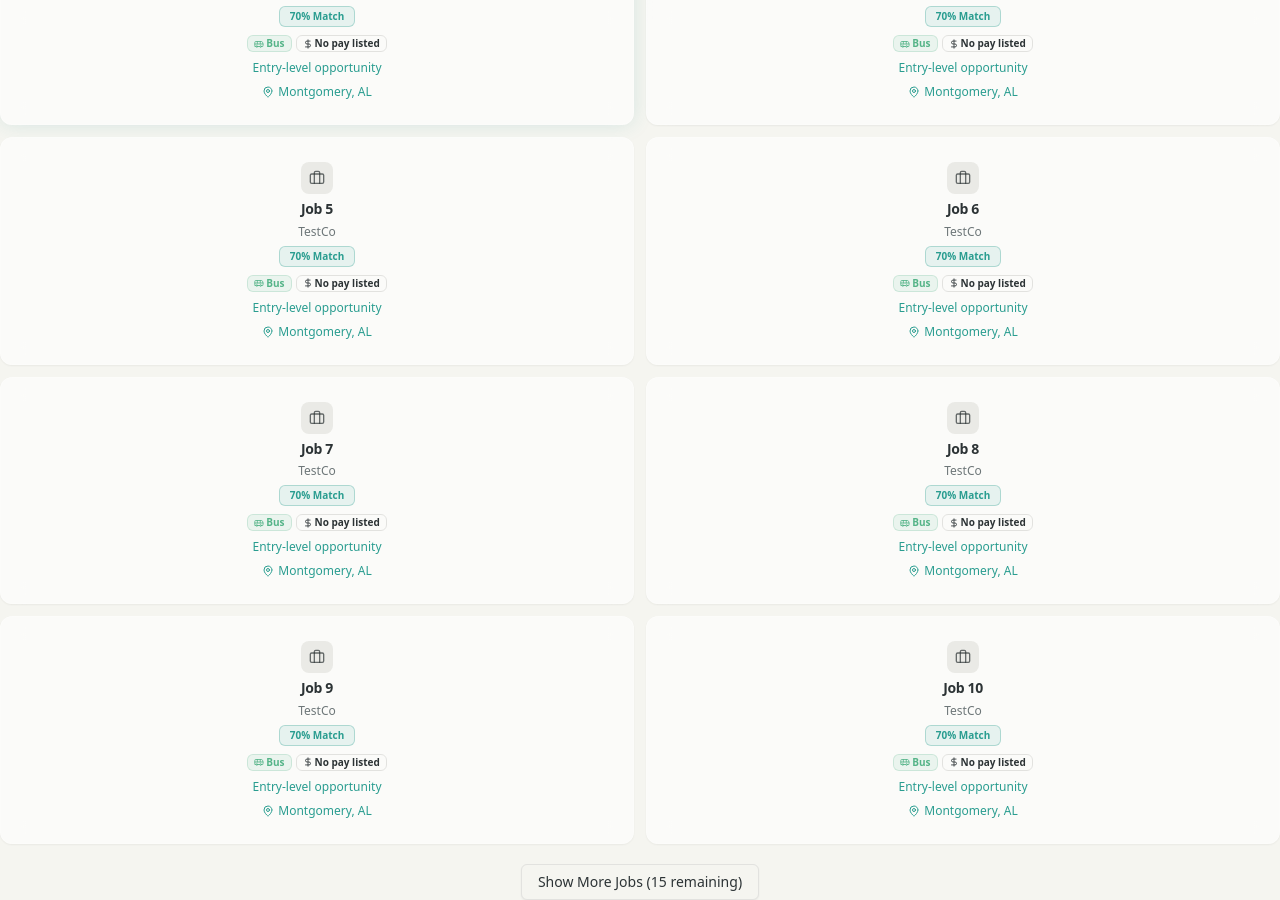
it: JobListSection › shows exhaustion message when all jobs displayed
(page scrolled)
Click the button "Show More Jobs (15 remaining)": (640, 882) x1=521 y1=864 x2=759 y2=899
(page scrolled)
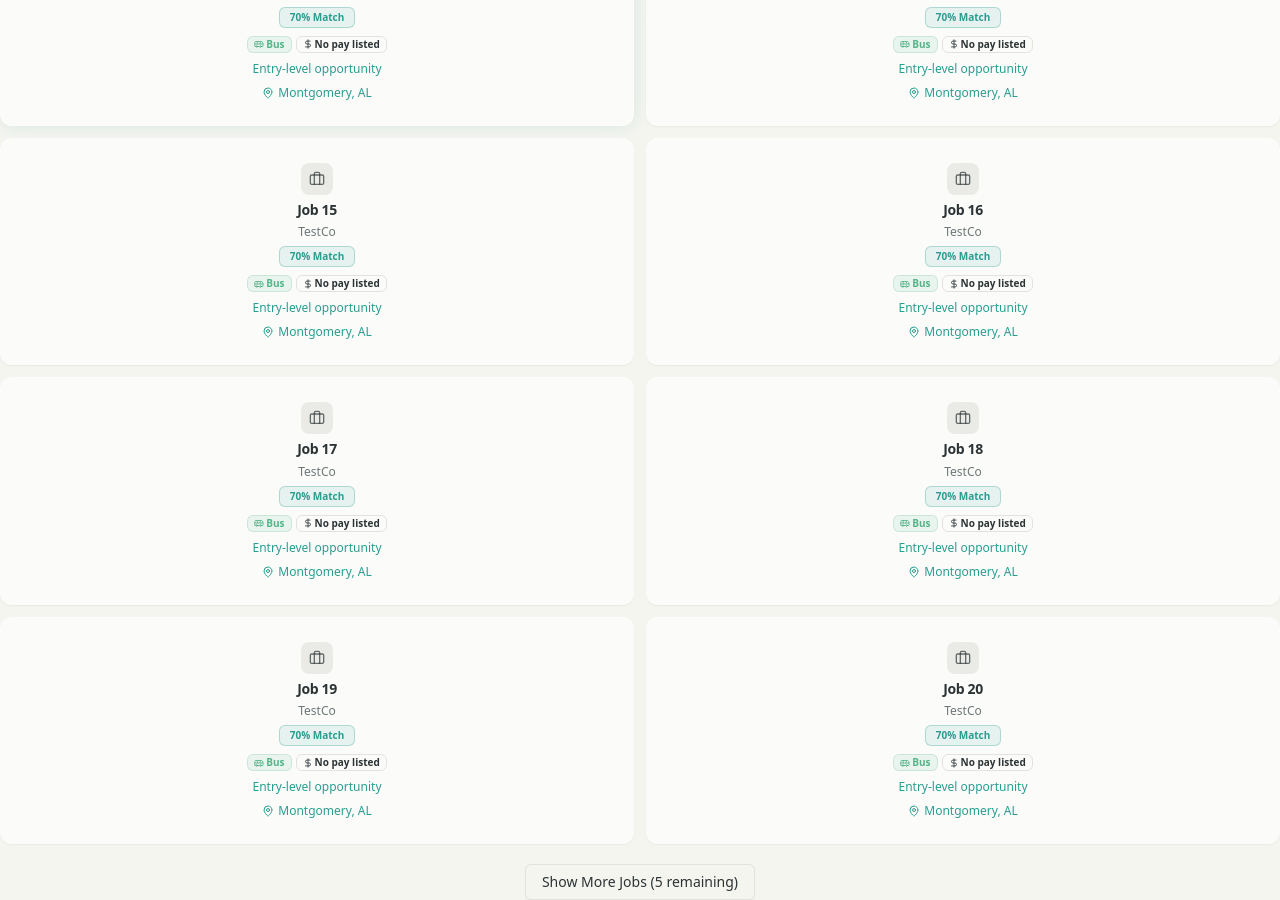
Click the button "Show More Jobs (5 remaining)": (640, 882) x1=525 y1=864 x2=755 y2=899
(page scrolled)
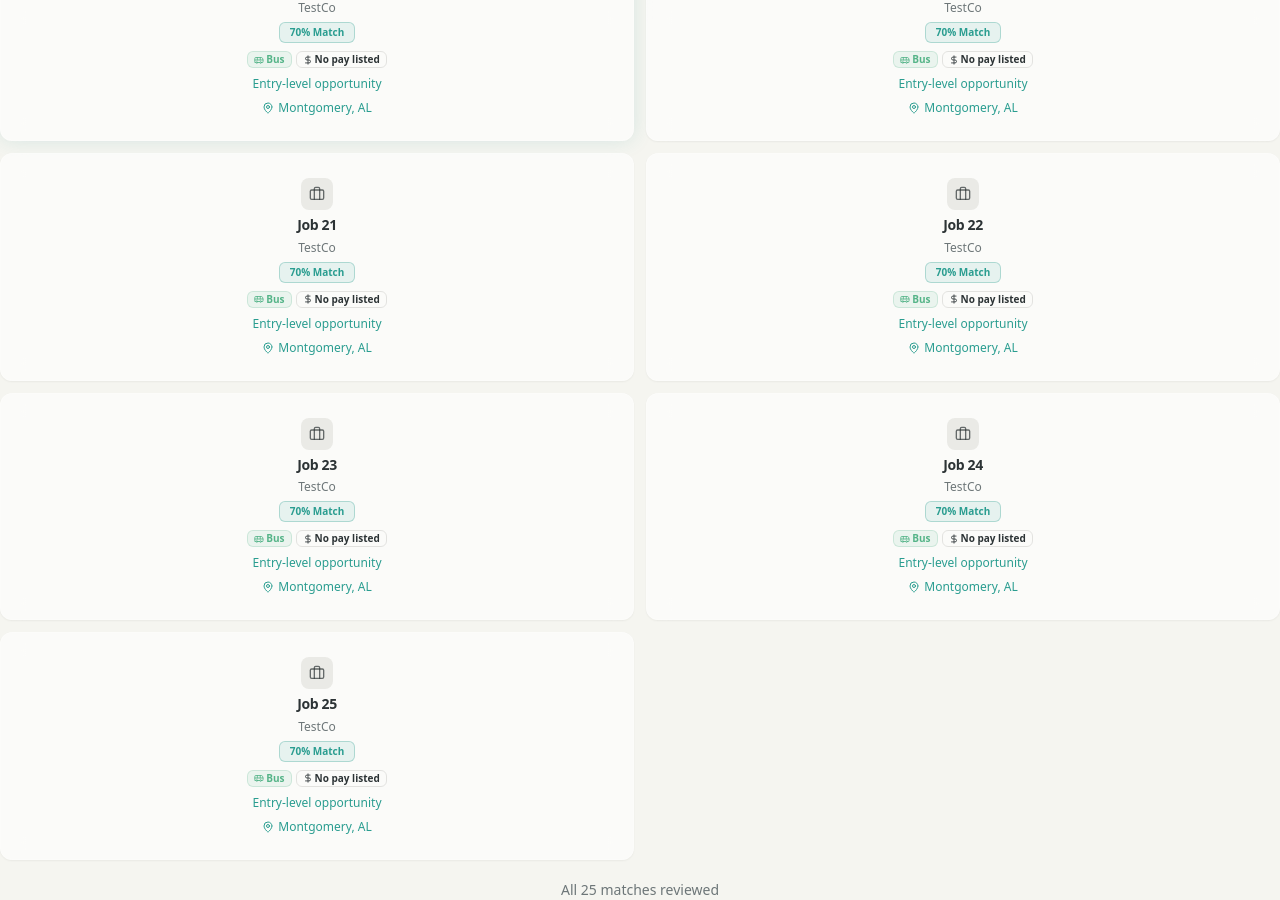
Expected: the text "Job 25" is shown, x1=297 y1=695 x2=337 y2=712
Expected: the button "Show More" is gone
Expected: the text "All 25 matches reviewed" is shown, x1=561 y1=880 x2=719 y2=898
